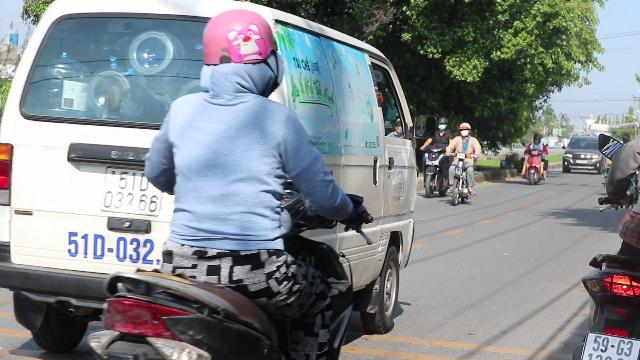helmet: (194, 6, 282, 98)
motorcyclist: (83, 11, 393, 359)
